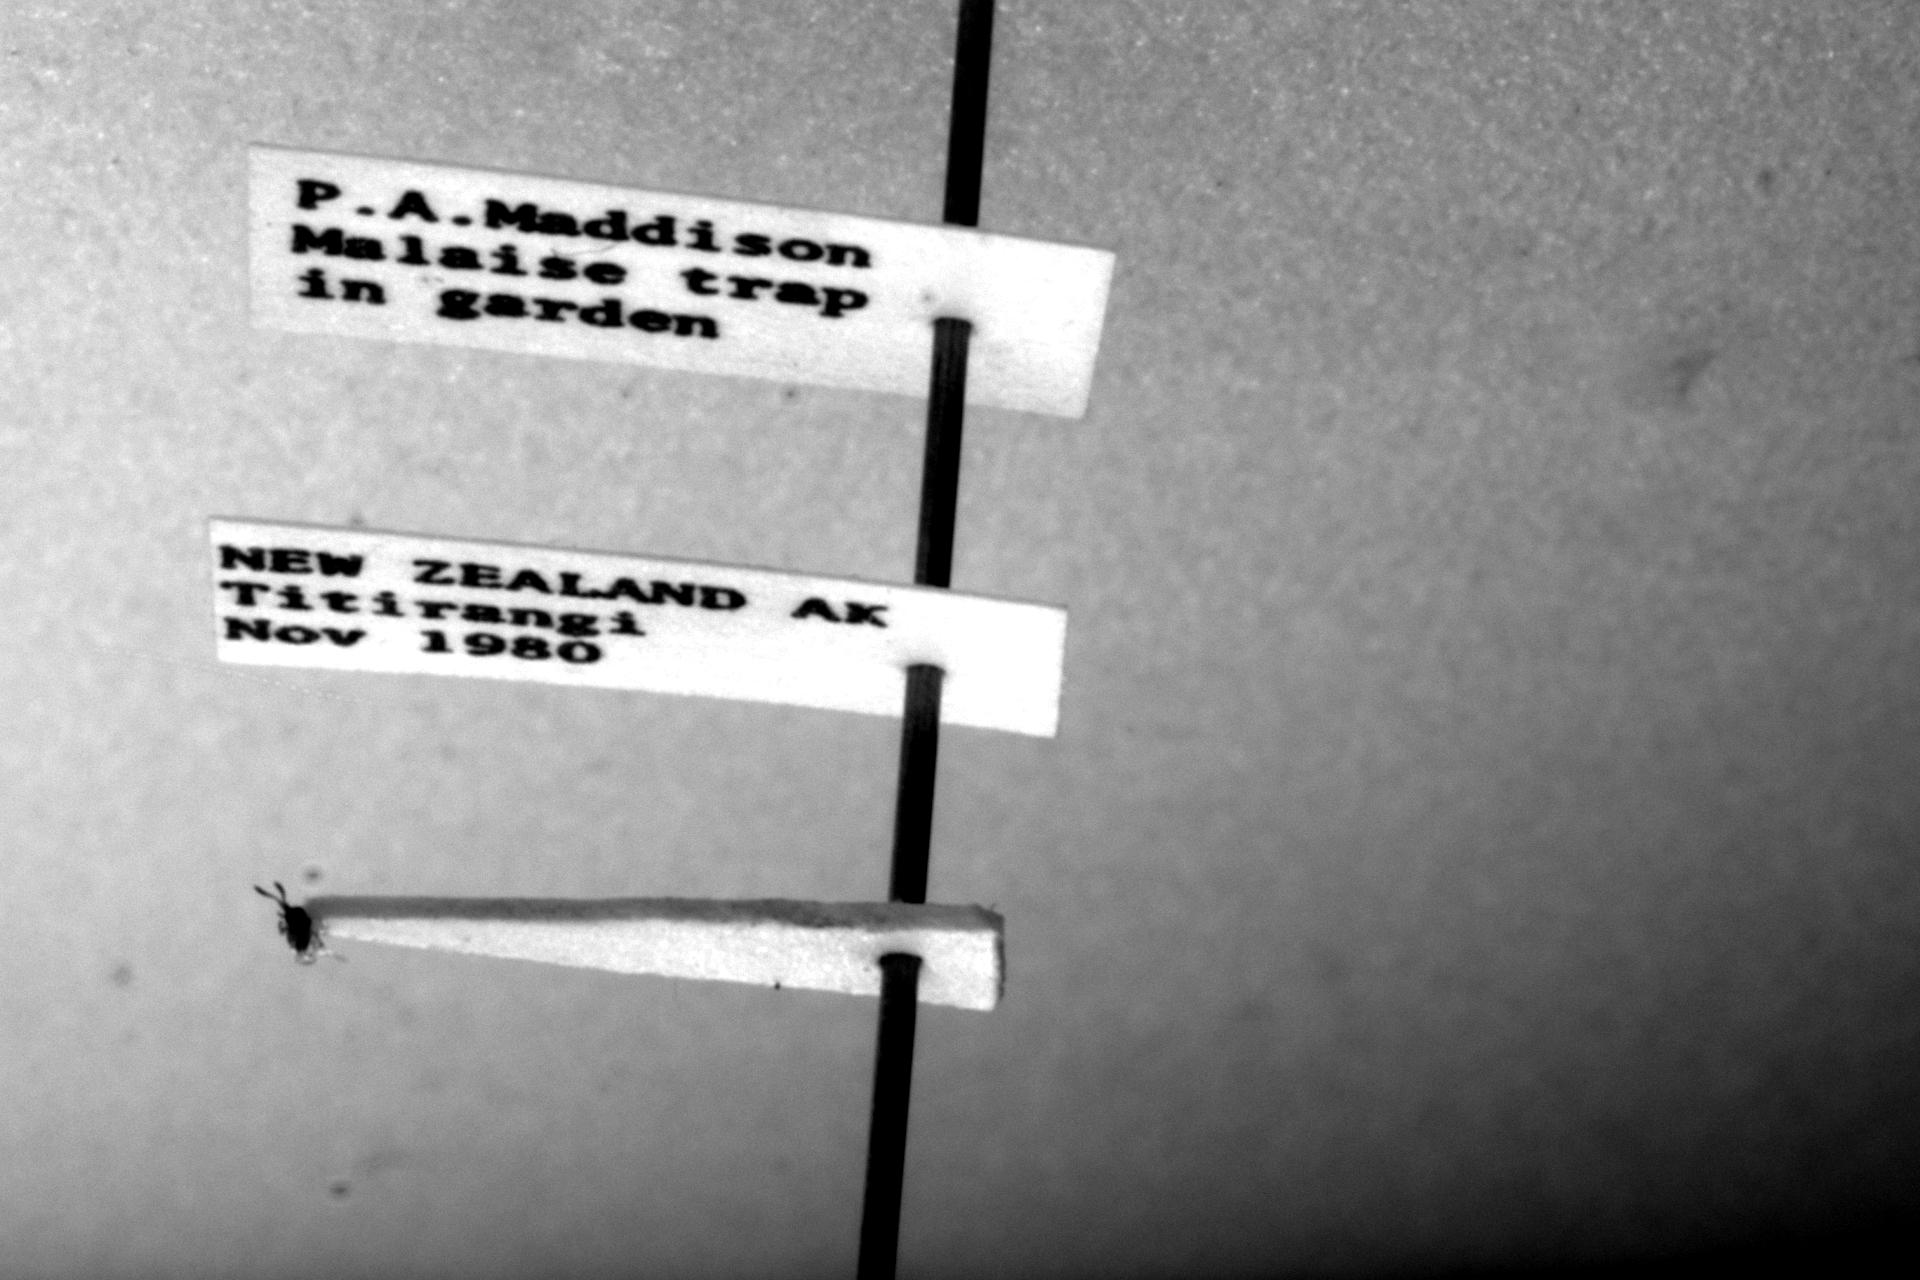typed_label: (247, 146, 1114, 416), (210, 517, 1066, 734)
